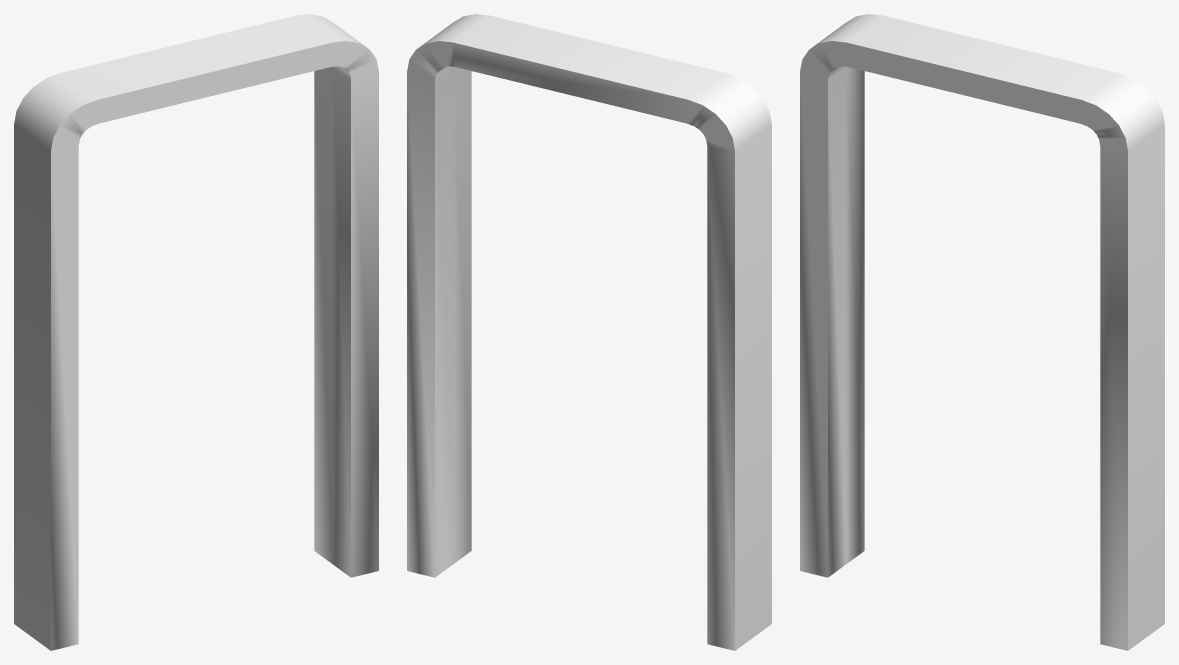
File: menkuang.FBX
The picture shows the model from 3 angles, left to right: view 1: azimuth 30°, elevation 25°; view 2: azimuth 150°, elevation 25°; view 3: azimuth 330°, elevation 25°; orthographic projection.
Visible parts, largest first — view 1: menkuang; view 2: menkuang; view 3: menkuang.
Part boxes in pixels (x1=…): menkuang: x1=14, y1=14, x2=378, y2=650; menkuang: x1=407, y1=14, x2=771, y2=650; menkuang: x1=800, y1=14, x2=1164, y2=650.
Size of the model in its own units: 57.61 by 90.61 by 11.21.
